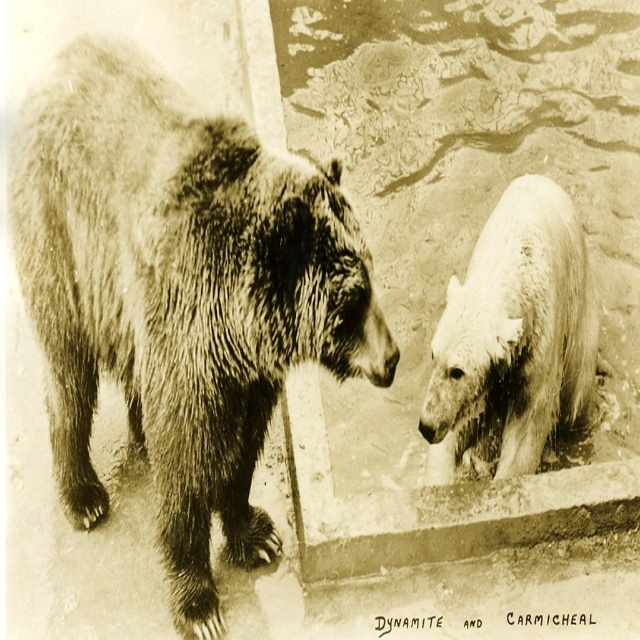Brown bear: (4, 23, 399, 639)
